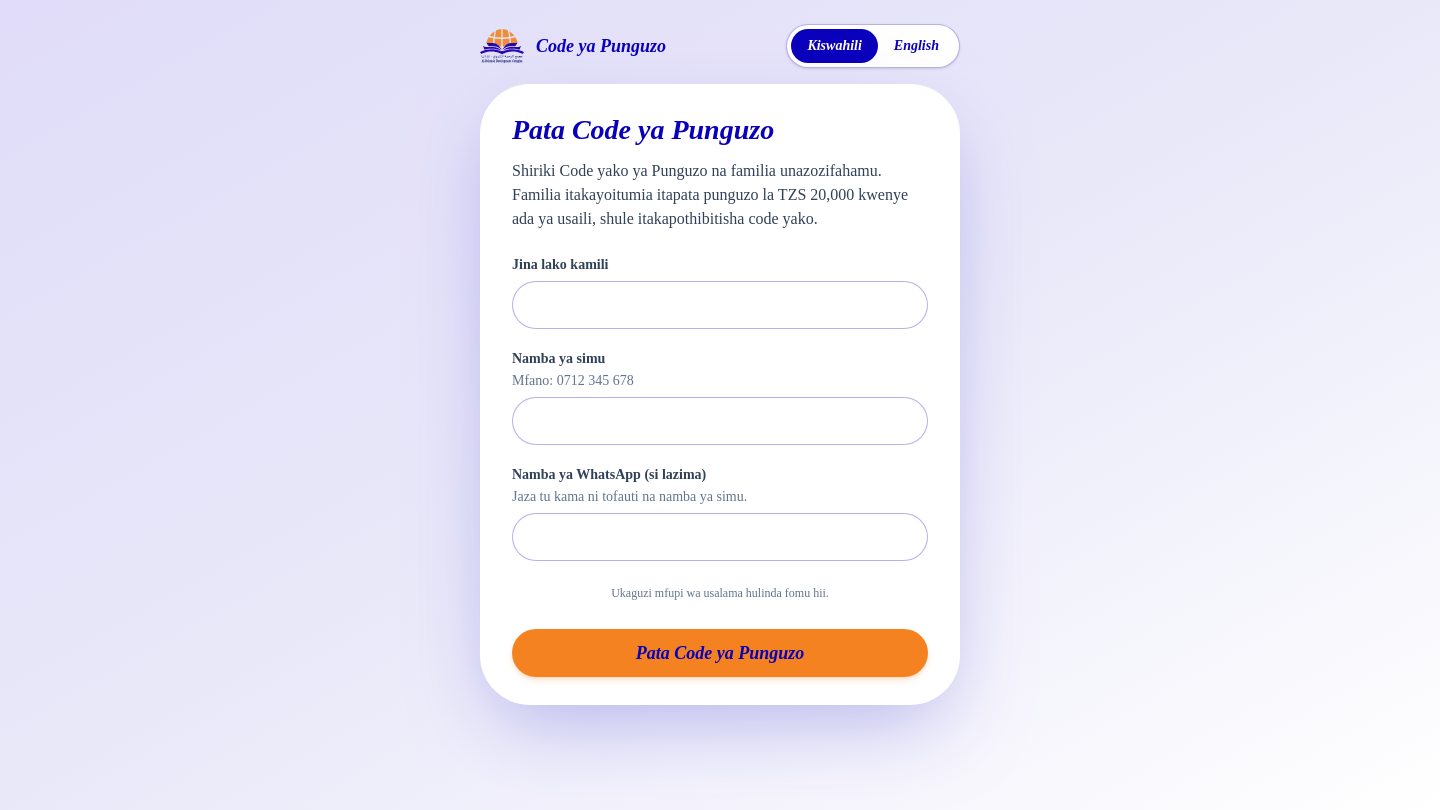
the Discount code page › sends the entries and the token, then shows the code, the link, Copy, WhatsApp and the office phone
The image size is (1440, 810).
Type "Rehema Juma" into the field labelled "Jina lako kamili" at (720, 305), box [512,281,928,329]
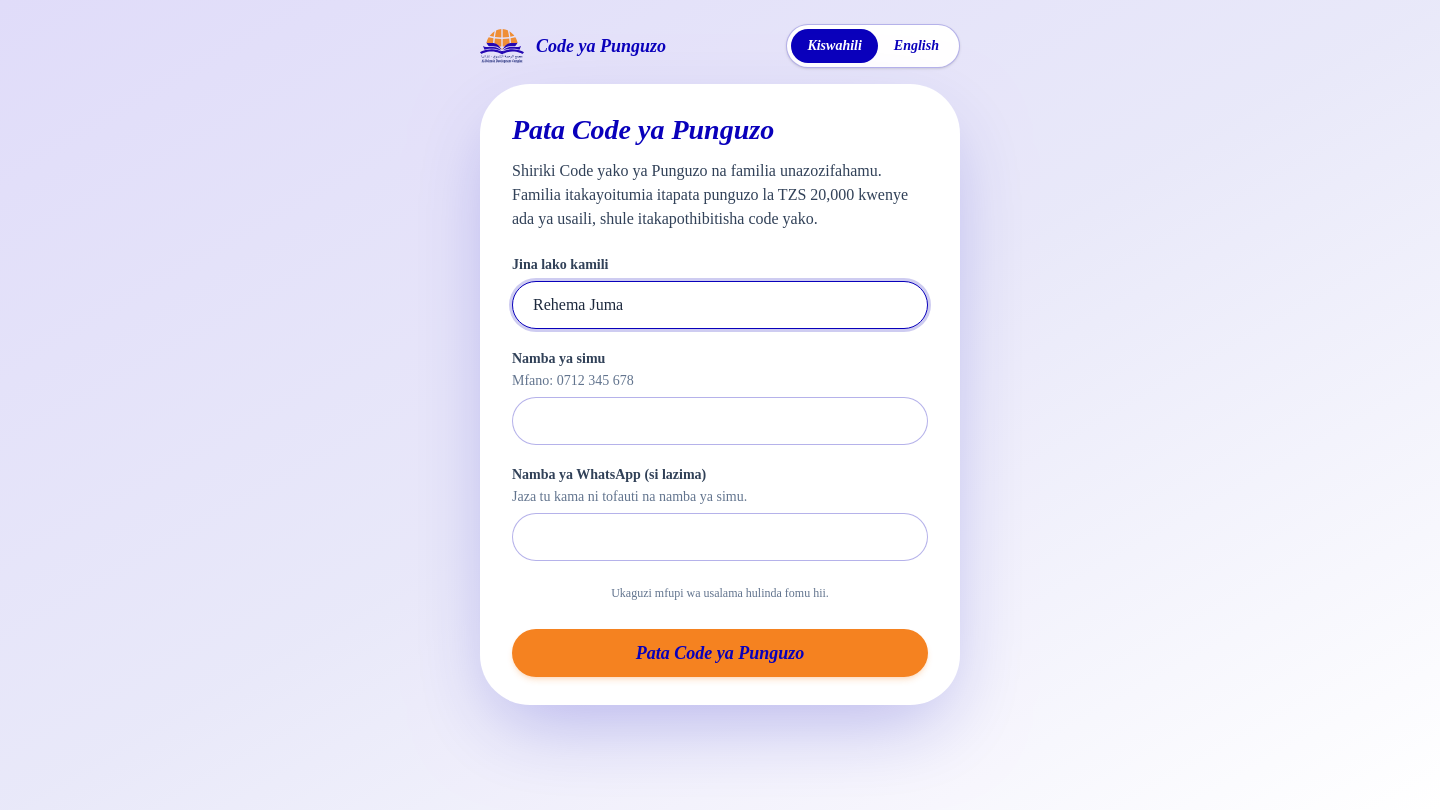
Type "0712 345 678" into the field labelled "Namba ya simu" at (720, 421), box [512,397,928,445]
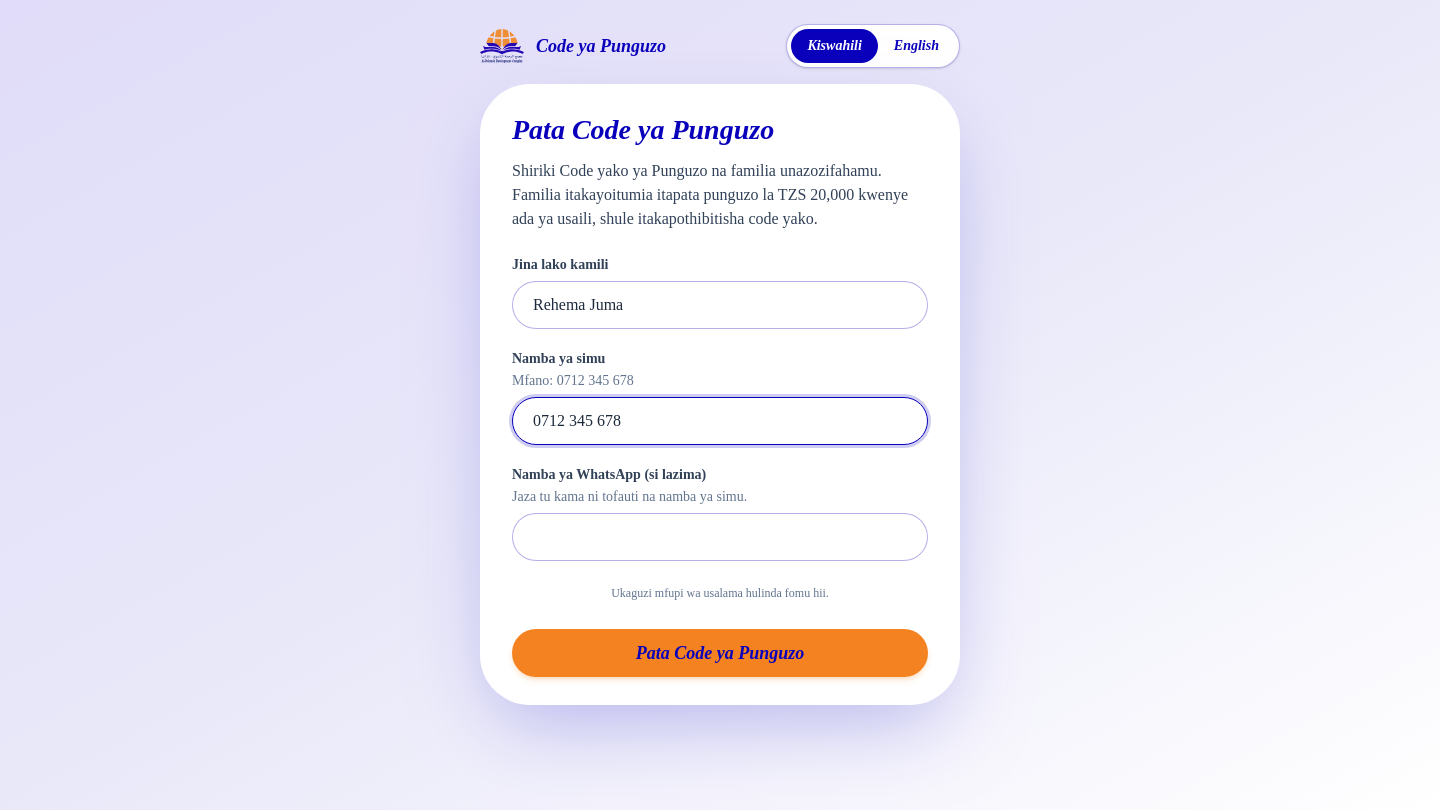
Type "0754 000 111" into the field labelled "Namba ya WhatsApp (si lazima)" at (720, 537), box [512,513,928,561]
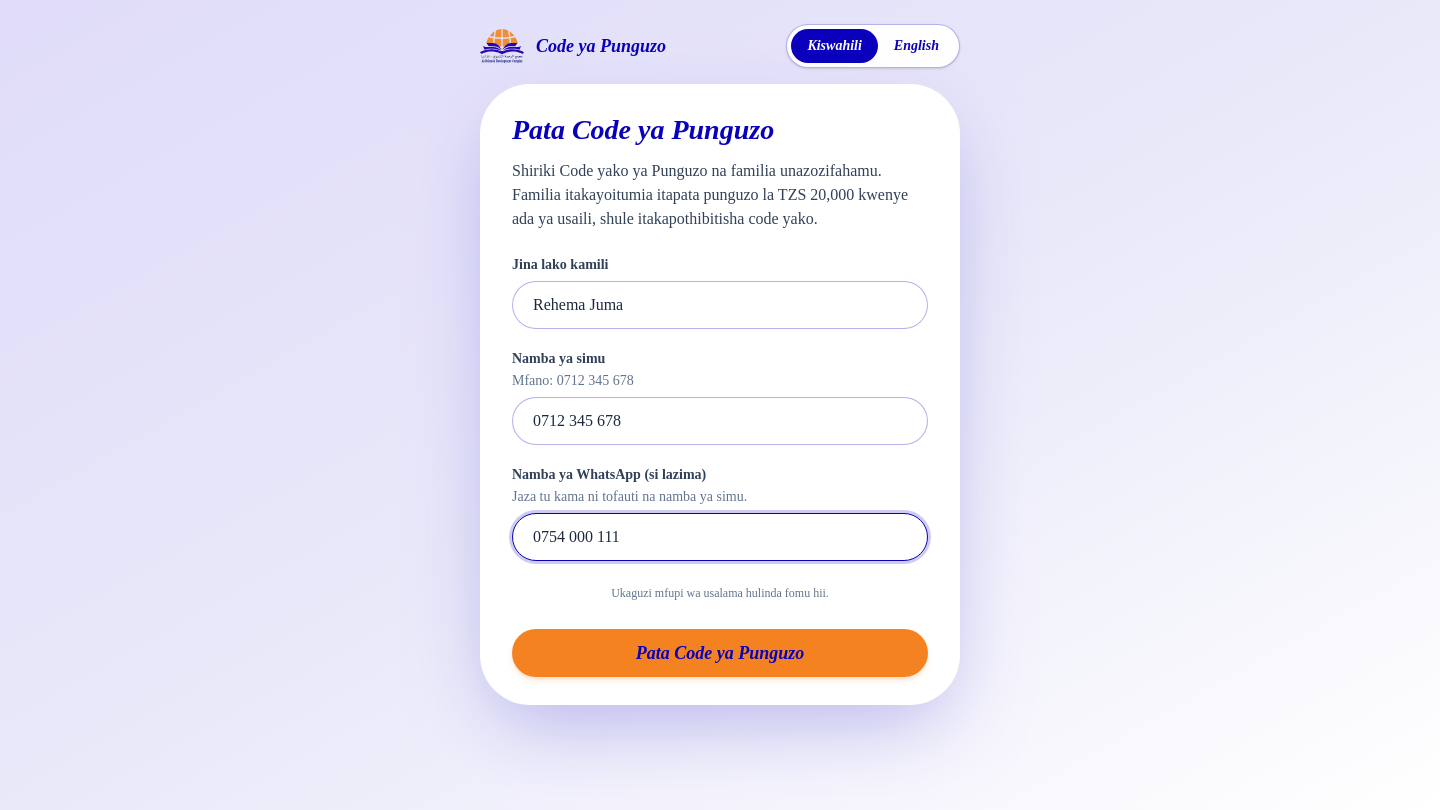
Click the button "Pata Code ya Punguzo" at (720, 653), box [512,629,928,677]
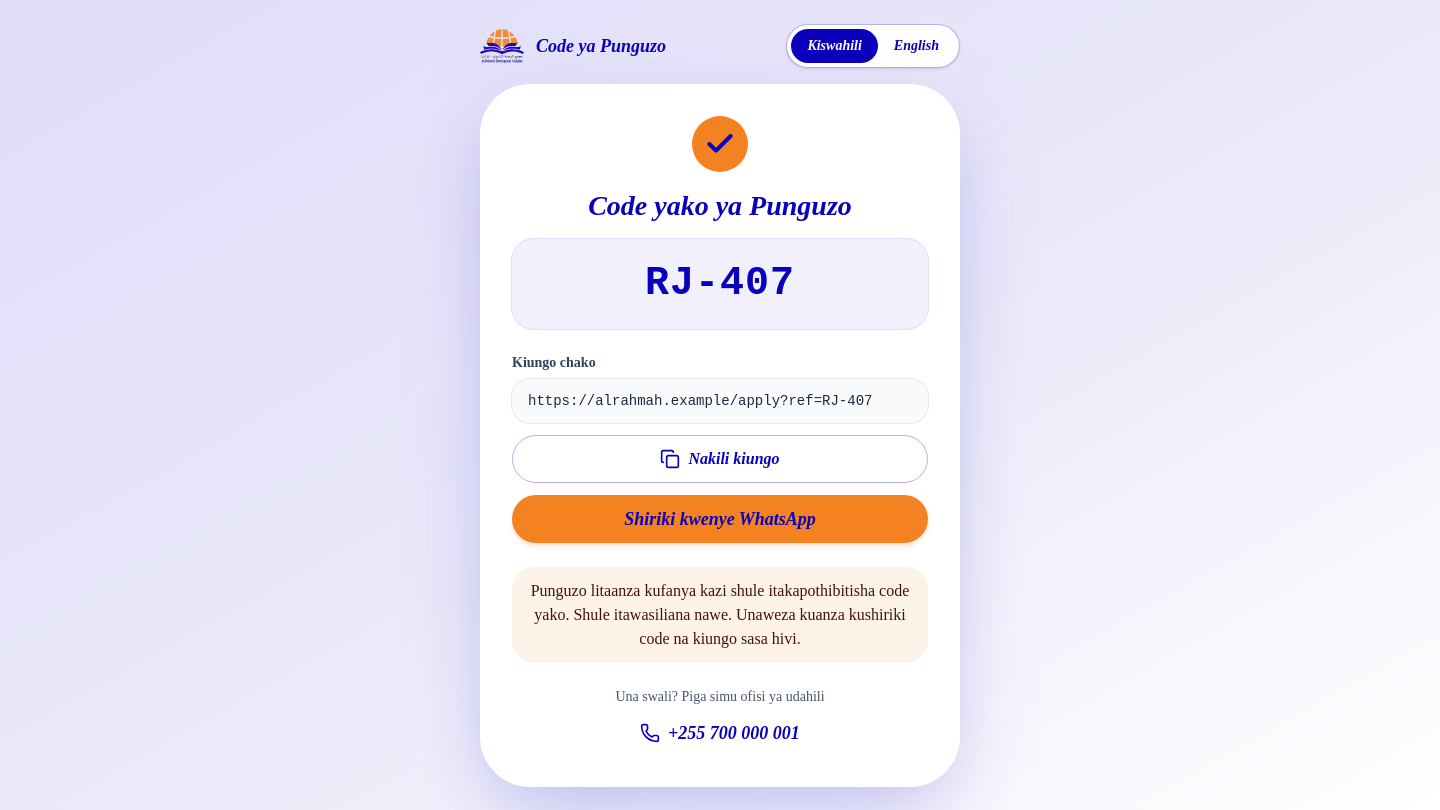
Check: the text "RJ-407" is shown, box [512,239,928,329]
Check: the text "https://alrahmah.example/apply?ref=RJ-407" is shown, box [512,379,928,423]
Check: the button "Nakili kiungo" is shown, box [512,435,928,483]
